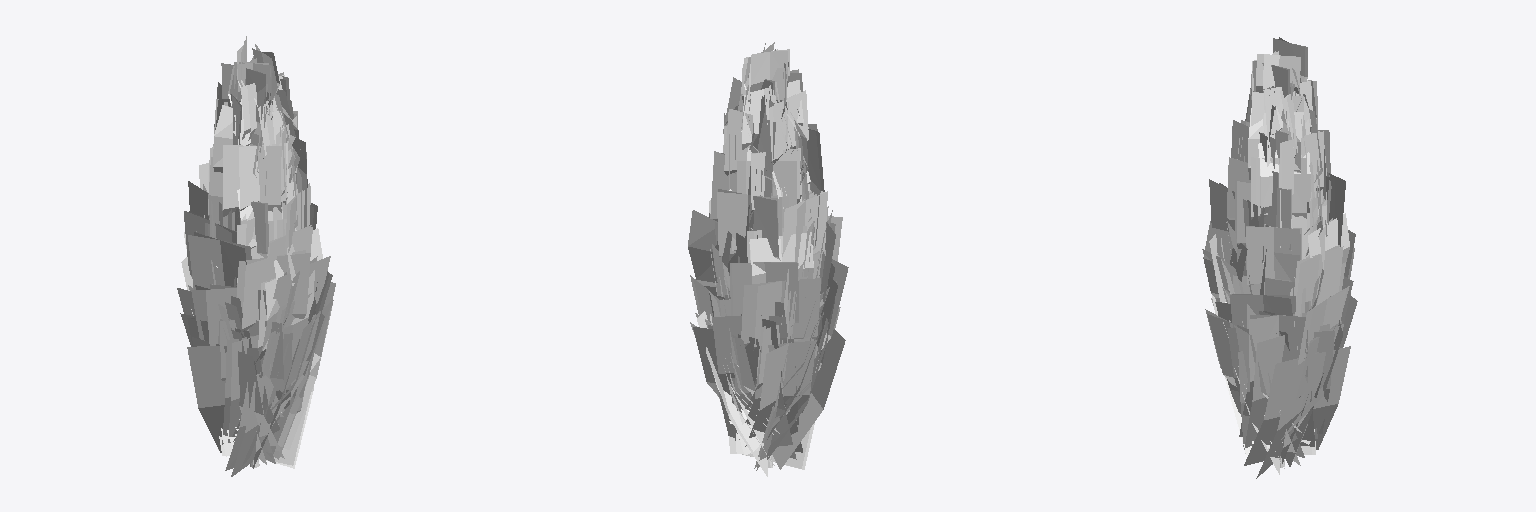
Rendered from Leyland_Cypress_Model_0.obj.
3 renders of one model, left to right at view 1: azimuth 30°, elevation 25°; view 2: azimuth 150°, elevation 25°; view 3: azimuth 270°, elevation 25°, orthographic.
Parts seen in each view (by area): view 1: Foliage; view 2: Foliage; view 3: Foliage.
Part boxes in pixels (bbox=[...]): Foliage: bbox=[177, 36, 335, 476]; Foliage: bbox=[688, 42, 848, 476]; Foliage: bbox=[1202, 37, 1357, 478].
Bounding box in the file's own units: 1.82 × 5 × 1.68.